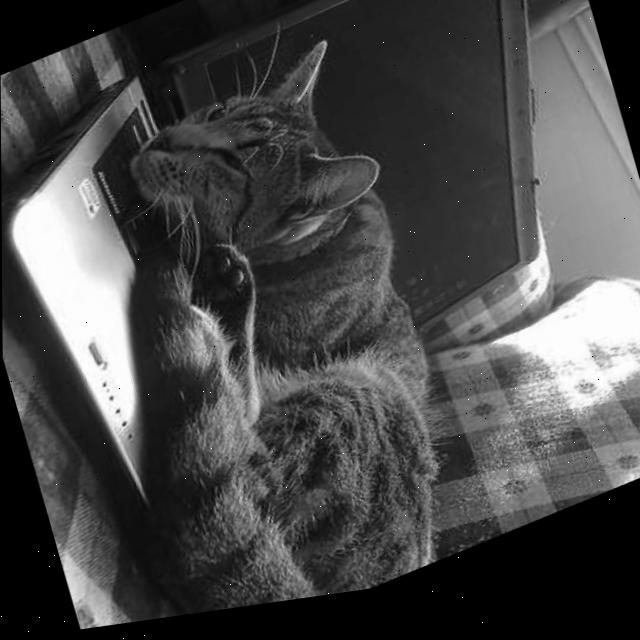laptop: (106, 0, 627, 422)
